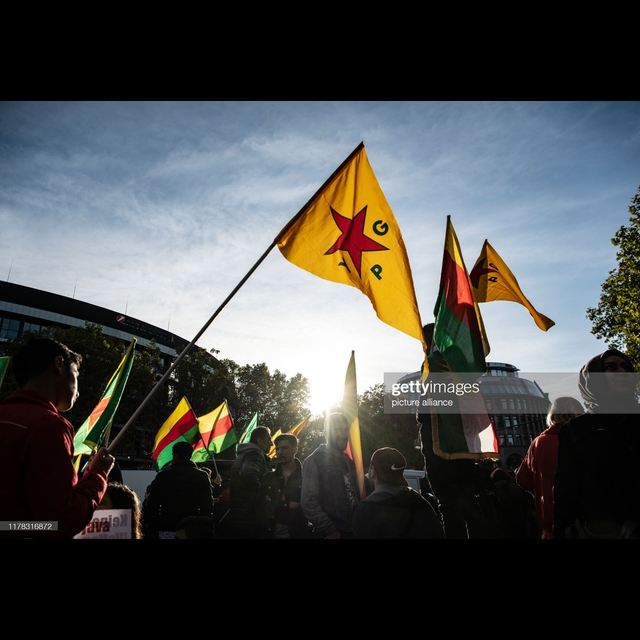YPG: (321, 203, 391, 282)
